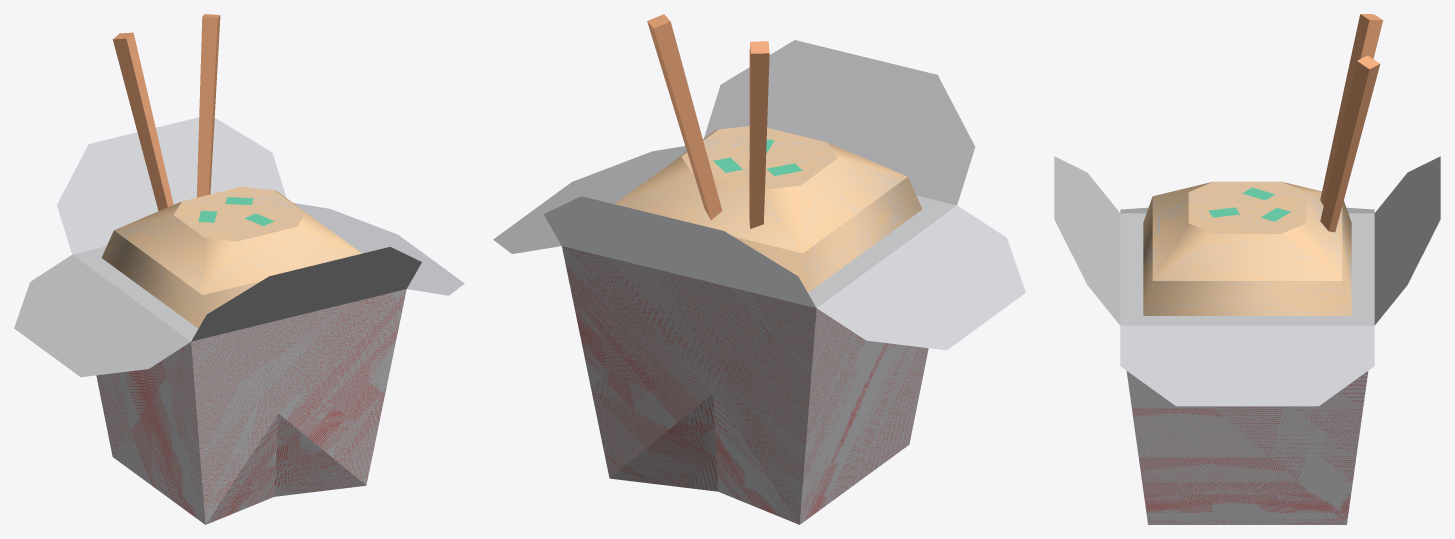
Rendered from Chinese.glb.
3 renders of one model, left to right at view 1: azimuth 30°, elevation 25°; view 2: azimuth 150°, elevation 25°; view 3: azimuth 270°, elevation 25°, orthographic. The views are drawn at different scales.
Visible parts, largest first — view 1: Chinese; view 2: Chinese; view 3: Chinese.
Boxes of the visible parts, x1=… form: Chinese: x1=14, y1=14, x2=464, y2=524; Chinese: x1=493, y1=14, x2=1025, y2=524; Chinese: x1=1054, y1=14, x2=1440, y2=524.
Size of the model in its own units: 0.3624 by 0.3686 by 0.295.
